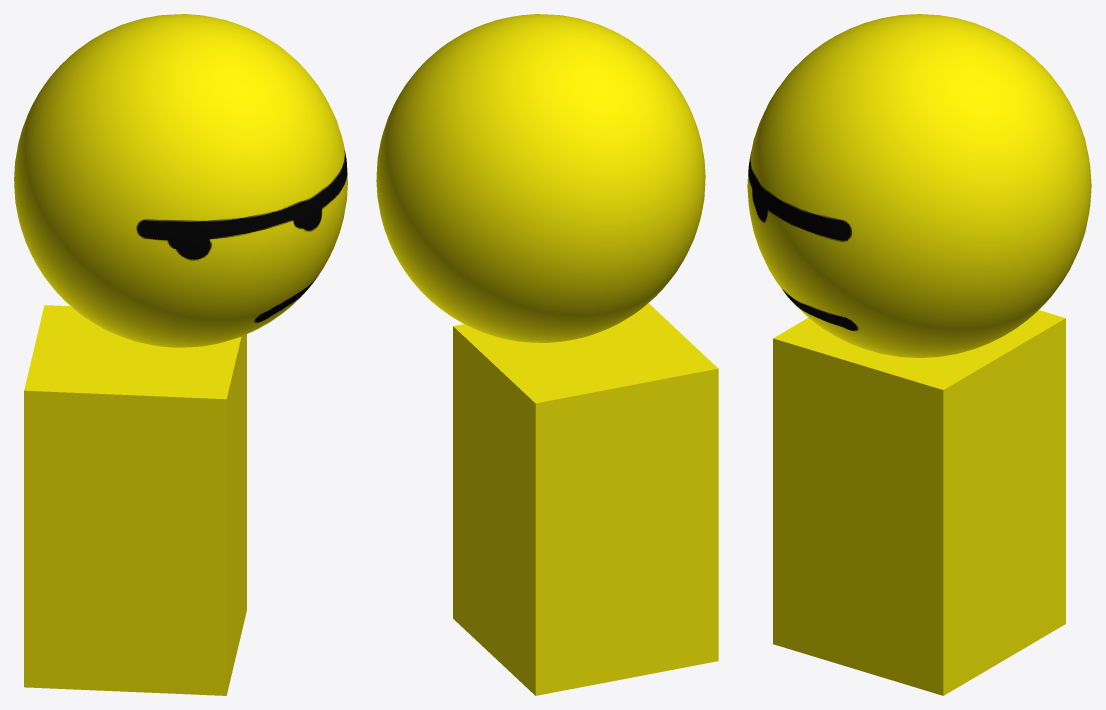
File: guy story.glb
3 renders of one model, left to right at view 1: azimuth 30°, elevation 25°; view 2: azimuth 150°, elevation 25°; view 3: azimuth 270°, elevation 25°, orthographic. The views are drawn at different scales.
Parts seen in each view (by area): view 1: node_id5, node_id8; view 2: node_id8, node_id5; view 3: node_id8, node_id5.
Boxes of the visible parts, x1,y1,x2,y2 form: node_id5: (14, 14, 347, 347); node_id8: (24, 305, 246, 695); node_id8: (453, 303, 718, 695); node_id5: (376, 14, 705, 342); node_id8: (773, 310, 1065, 695); node_id5: (747, 14, 1091, 357).
Size of the model in its own units: 0.2758 by 0.512 by 0.2548.
2 materials, 2 textured.
